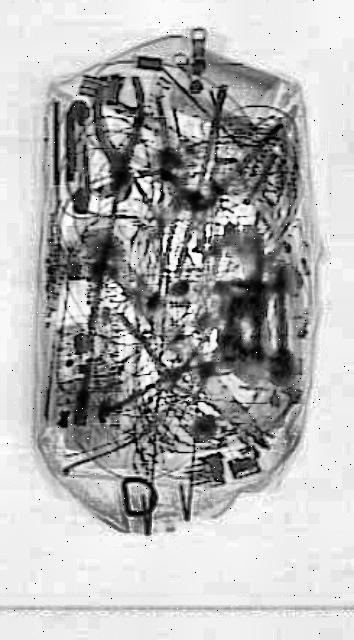Pliers: (100, 310, 216, 436), (96, 78, 148, 204)
